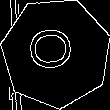O_E: (29, 30, 83, 76)
